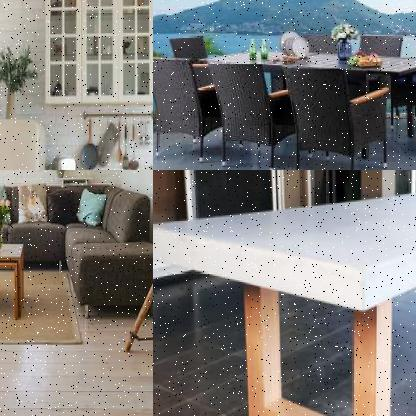table: (153, 173, 415, 415), (190, 44, 415, 161), (0, 240, 29, 328)
